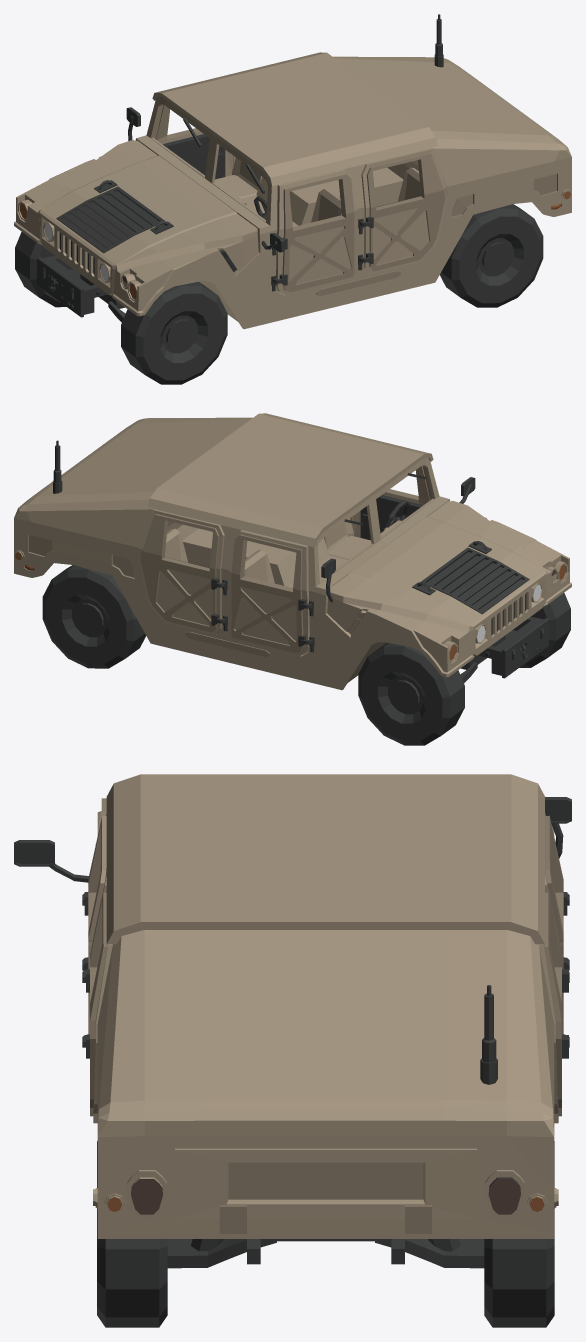
File: humvee_v001.glb
3 views of the same model, one above another, from view 1: azimuth 30°, elevation 25°; view 2: azimuth 150°, elevation 25°; view 3: azimuth 270°, elevation 25° (orthographic). The views are drawn at different scales.
Visible parts, largest first — view 1: humvee.001; view 2: humvee.001; view 3: humvee.001.
Boxes of the visible parts, box(x1,y1,x2,y2) form: humvee.001: box(14, 14, 571, 384); humvee.001: box(14, 413, 571, 745); humvee.001: box(14, 774, 571, 1327).
Bounding box in the file's own units: 4.68 × 2 × 2.7.
1 material, 1 textured.
